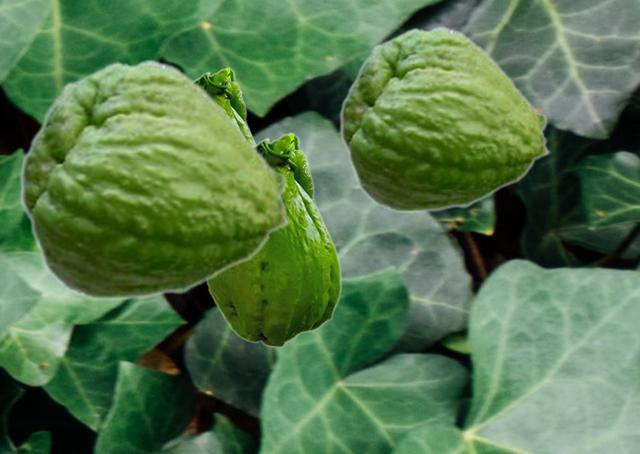sayote: (19, 58, 292, 301), (339, 25, 551, 213), (205, 132, 341, 347), (194, 67, 256, 143)
